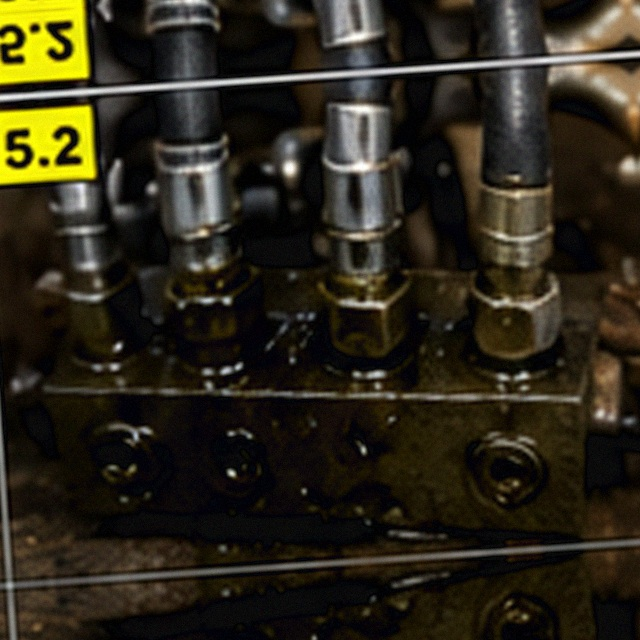hydraulic_oil_leak: (197, 199, 448, 466)
